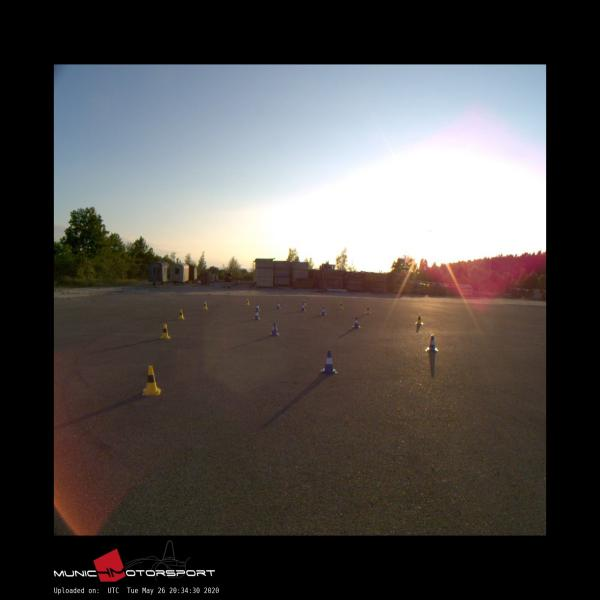blue_cone: (320, 350, 337, 374), (425, 335, 438, 352), (270, 321, 278, 336), (352, 316, 360, 328), (254, 310, 259, 320), (320, 307, 326, 315), (255, 303, 260, 311), (301, 303, 306, 311), (276, 302, 280, 309)
yellow_cone: (142, 365, 160, 394), (160, 323, 169, 339), (415, 314, 423, 324), (178, 308, 184, 320), (202, 301, 208, 310), (365, 306, 371, 313), (245, 298, 250, 305), (339, 302, 343, 309), (302, 299, 306, 305)
